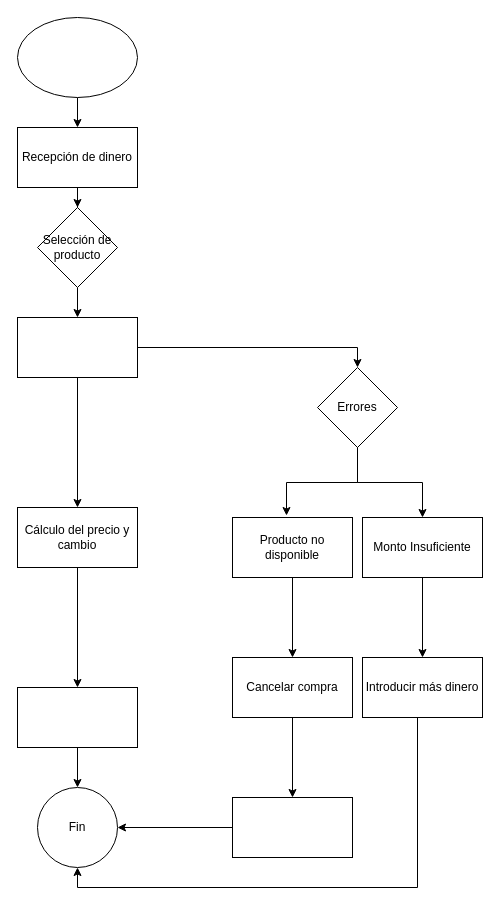
Some shapes in this 500 by 913 pixel diagram are drawn without their labels. The centre of each missing label's shape, as x and y in pixels:
"Devolver dinero" belongs at pixel 292 827.
"Dispensación del producto y devolución del cambio" belongs at pixel 77 717.
"Inicio" belongs at pixel 77 57.
"Validación del producto" belongs at pixel 77 347.
